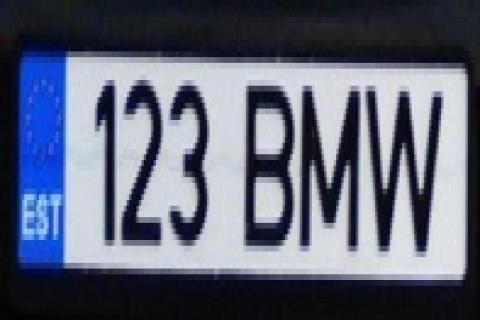LicensePlate: (16, 38, 476, 290)
